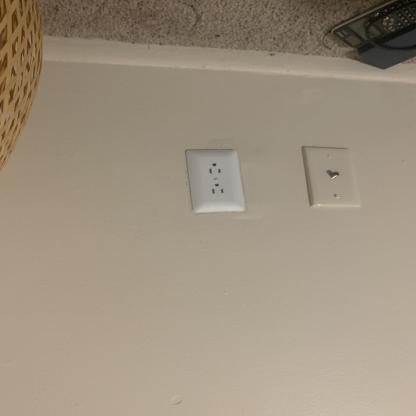OUTLET: (186, 149, 245, 214)
